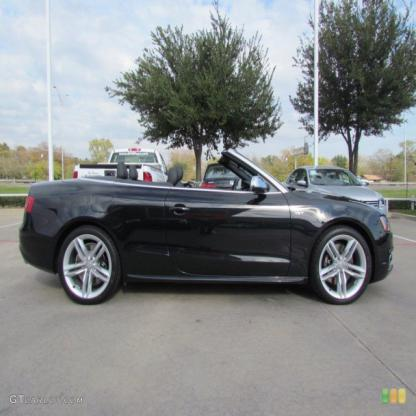Vehicle: (18, 149, 396, 304)
